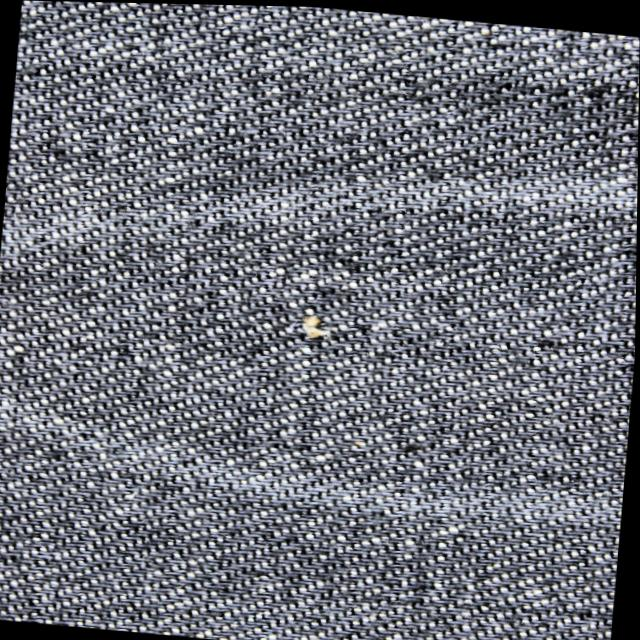Hole: (249, 301, 363, 361)
